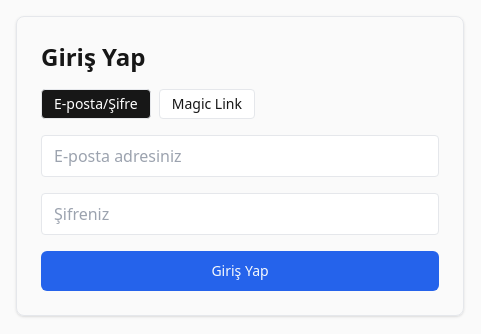
Test: LoginPage › Render Tests › magic link moduna geçiş yapılabiliyor
Expected: the field with placeholder "E-posta adresiniz" is shown, [41, 135, 439, 177]
Click the button "Magic Link" at (207, 104), box [159, 89, 255, 119]
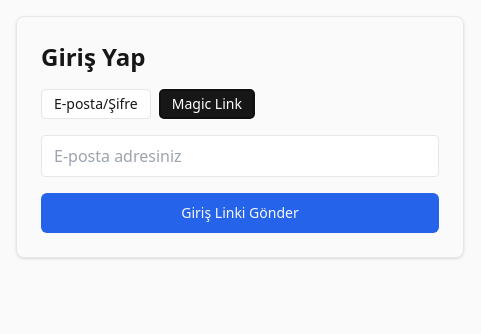
Expected: the button "Giriş Linki Gönder" is shown, [41, 193, 439, 233]
Expected: the password field with placeholder "Şifreniz" is gone
